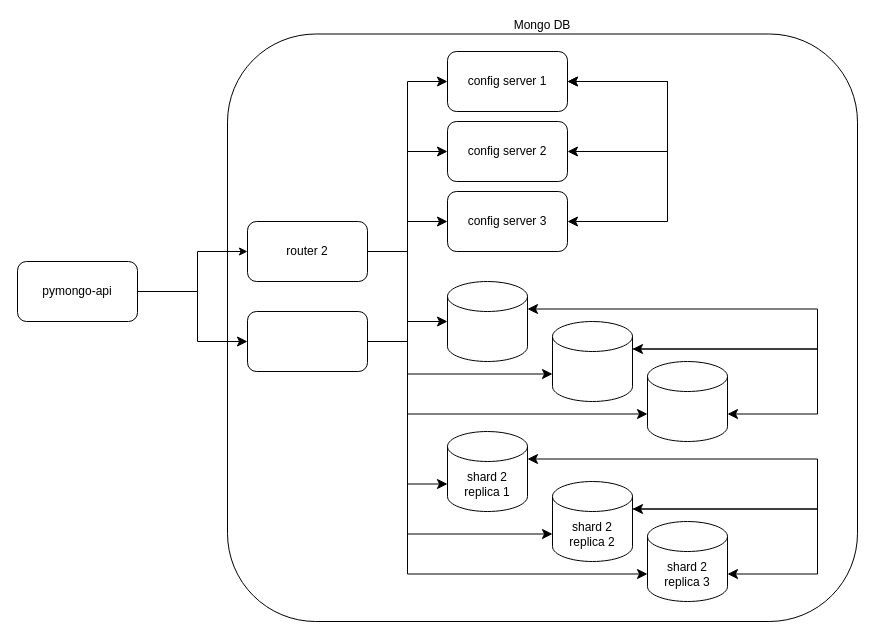
Image size: 875x639. Some labels were removed from this diagram. The centre of each missing label's shape, as x and y in pixels:
router 1: the point at 307,341
shard 1 replica 1: the point at 487,321
shard 1 replica 2: the point at 592,361
shard 1 replica 3: the point at 687,401
